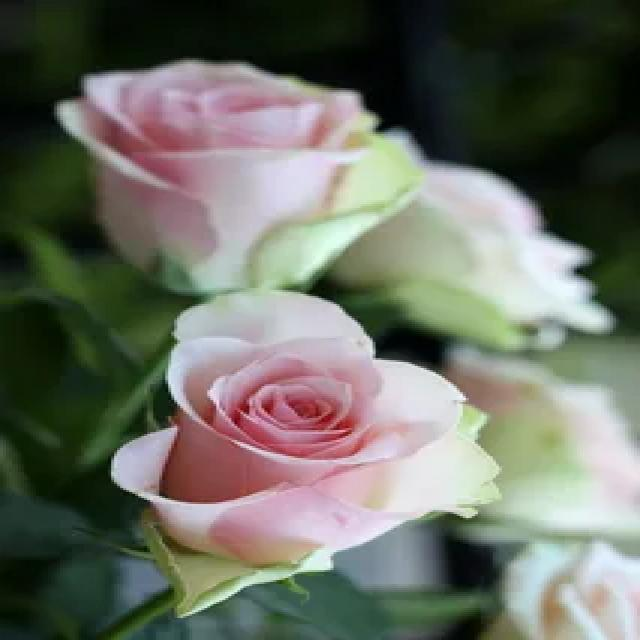rose: (93, 272, 508, 612)
